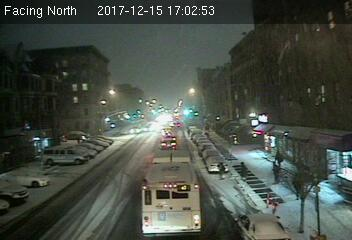bus: (141, 149, 203, 234)
car: (234, 208, 287, 240), (206, 157, 229, 173), (160, 138, 177, 148)
pedestrian: (238, 158, 251, 182), (272, 162, 284, 184), (217, 161, 228, 181)
